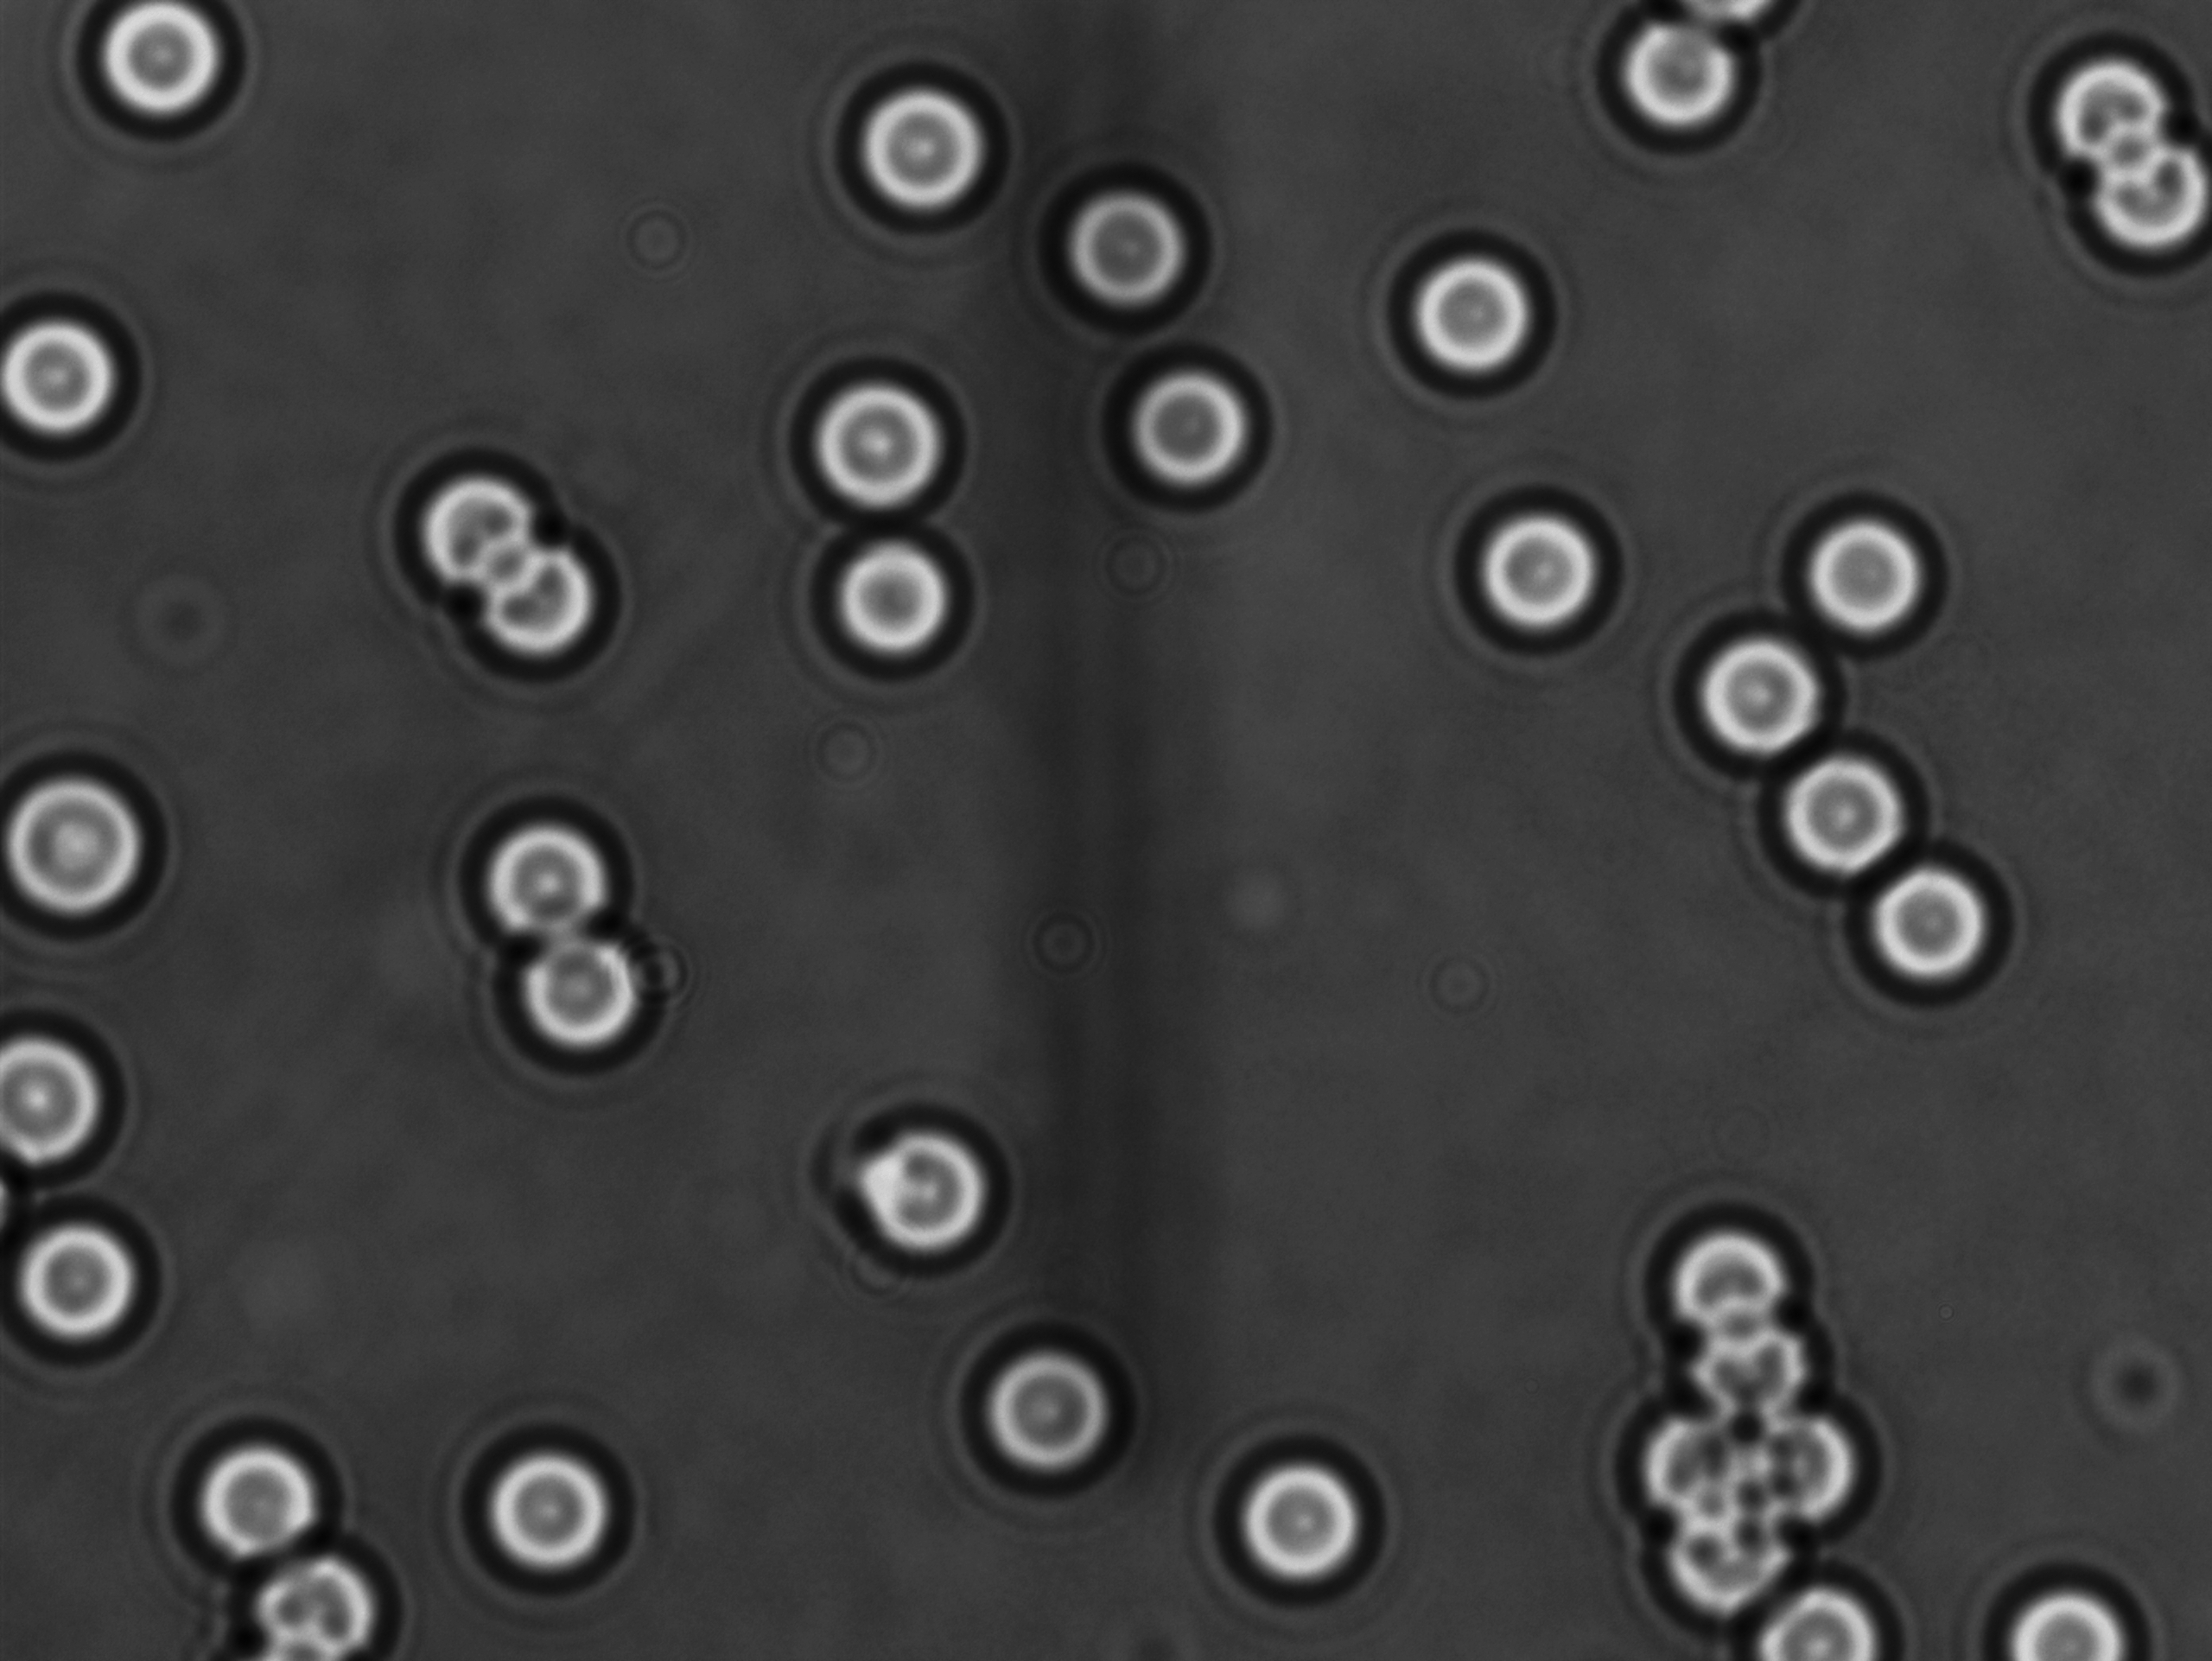depth:60: (1186, 1422, 1404, 1619), (1434, 457, 1636, 656), (1362, 208, 1560, 410), (775, 338, 979, 534), (373, 415, 577, 609), (792, 492, 998, 684), (940, 1303, 1139, 1499), (443, 1420, 649, 1607), (822, 52, 1021, 244), (1022, 157, 1219, 345), (1090, 335, 1296, 515), (816, 1099, 1017, 1282), (1833, 834, 2038, 1014), (157, 1399, 356, 1581), (445, 782, 642, 961), (504, 904, 700, 1083), (468, 525, 665, 701), (1755, 726, 1947, 902), (1776, 478, 1957, 654), (1664, 616, 1844, 785), (2029, 24, 2195, 201), (2046, 122, 2212, 298)
